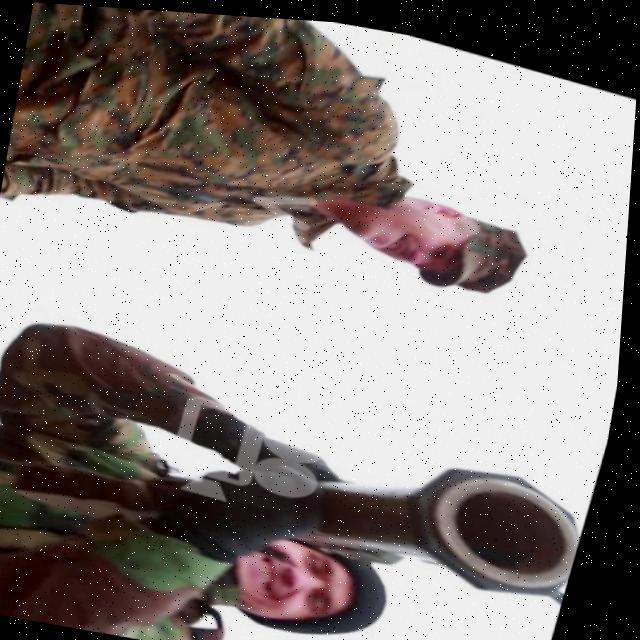rocket: (288, 413, 601, 607)
